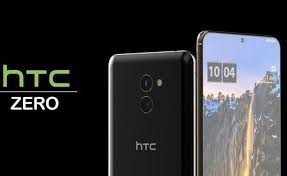htc: (108, 48, 197, 176)
